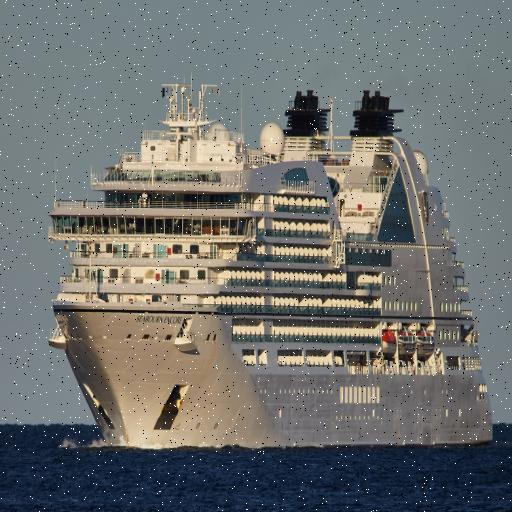cruises: (43, 69, 507, 453)
